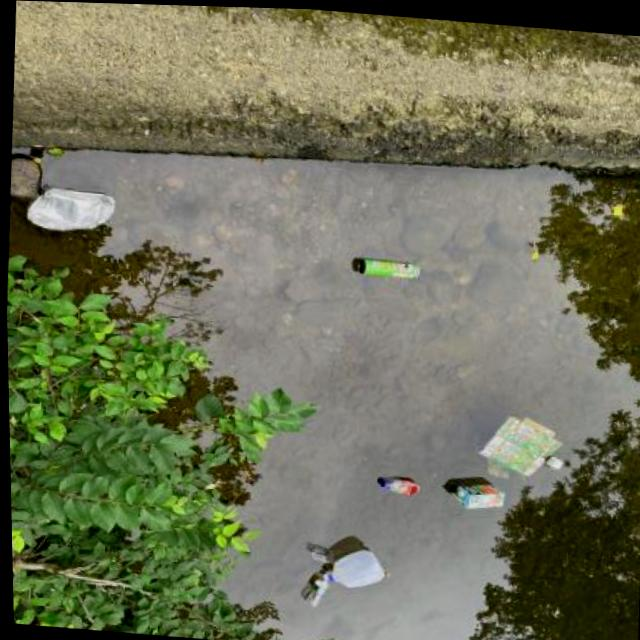Can-Metal: (20, 175, 122, 242), (351, 250, 430, 283)
Cardboard: (472, 404, 575, 487), (448, 474, 507, 514)
Plastic: (318, 538, 386, 589), (373, 465, 424, 500), (297, 566, 330, 605)
